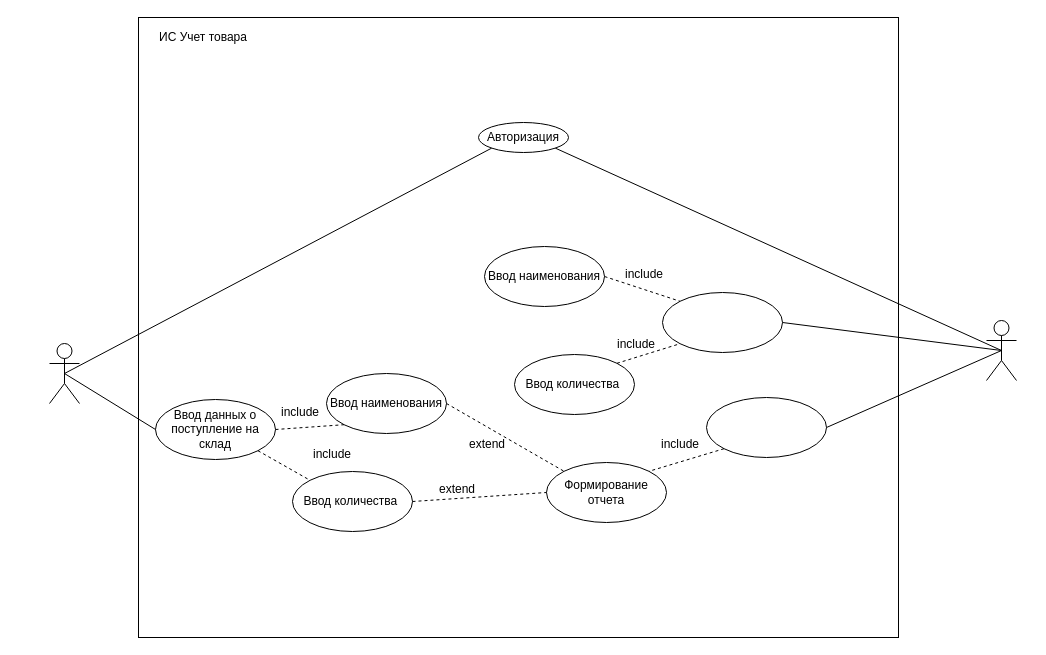
Some shapes in this 1046 by 655 pixel diagram are drawn without their labels. Each missing label, with the box of its shape:
Бухгалтер: (986, 320, 1016, 380)
Ввод данных о продаже: (662, 292, 782, 352)
Ведение отчетности о остатках товара: (706, 396, 826, 458)
Работник склада: (48, 342, 80, 404)
